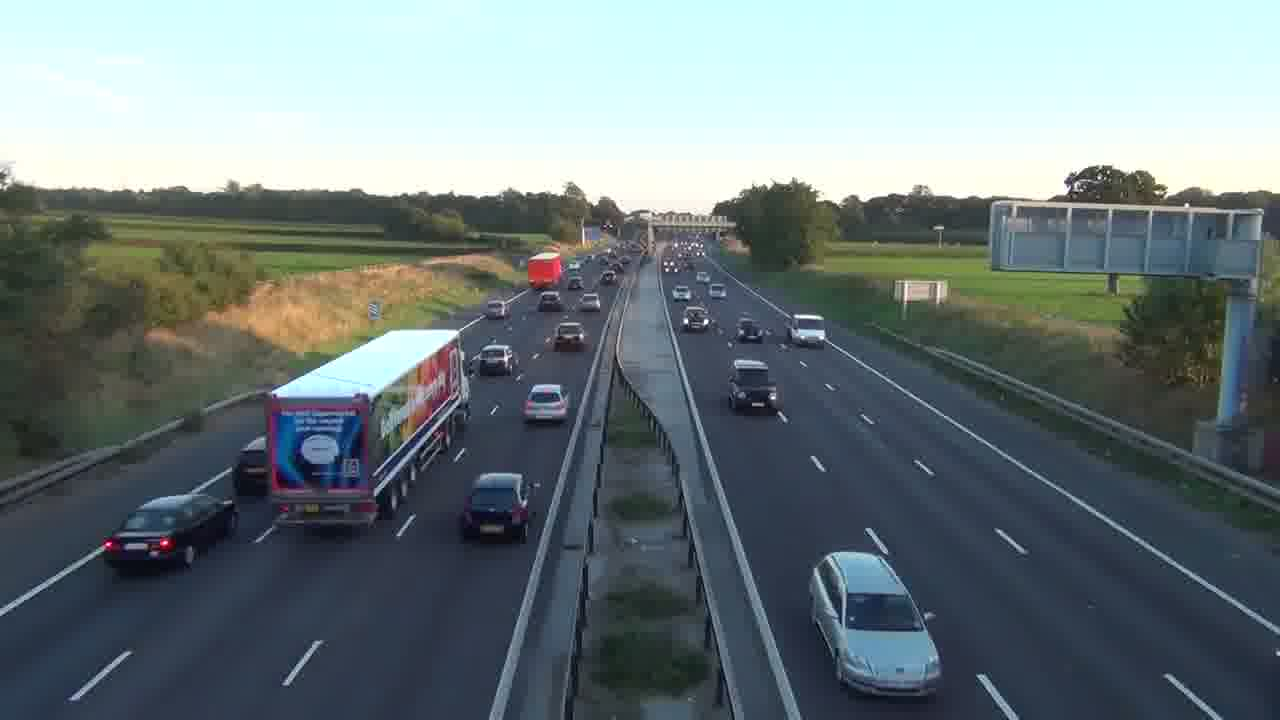bus: (264, 326, 467, 532)
car: (808, 548, 944, 698), (522, 383, 569, 424), (477, 343, 518, 377), (554, 320, 587, 351), (681, 306, 710, 332), (539, 291, 563, 311)
truck: (459, 471, 531, 542)
